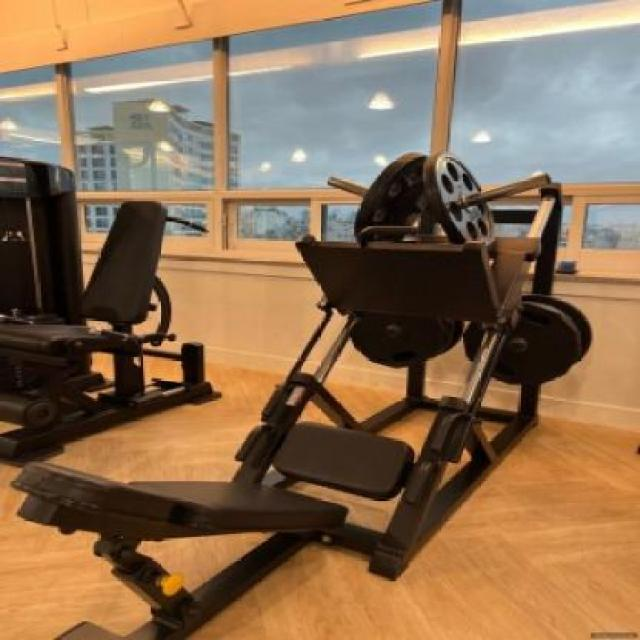leg press: (7, 121, 603, 640)
